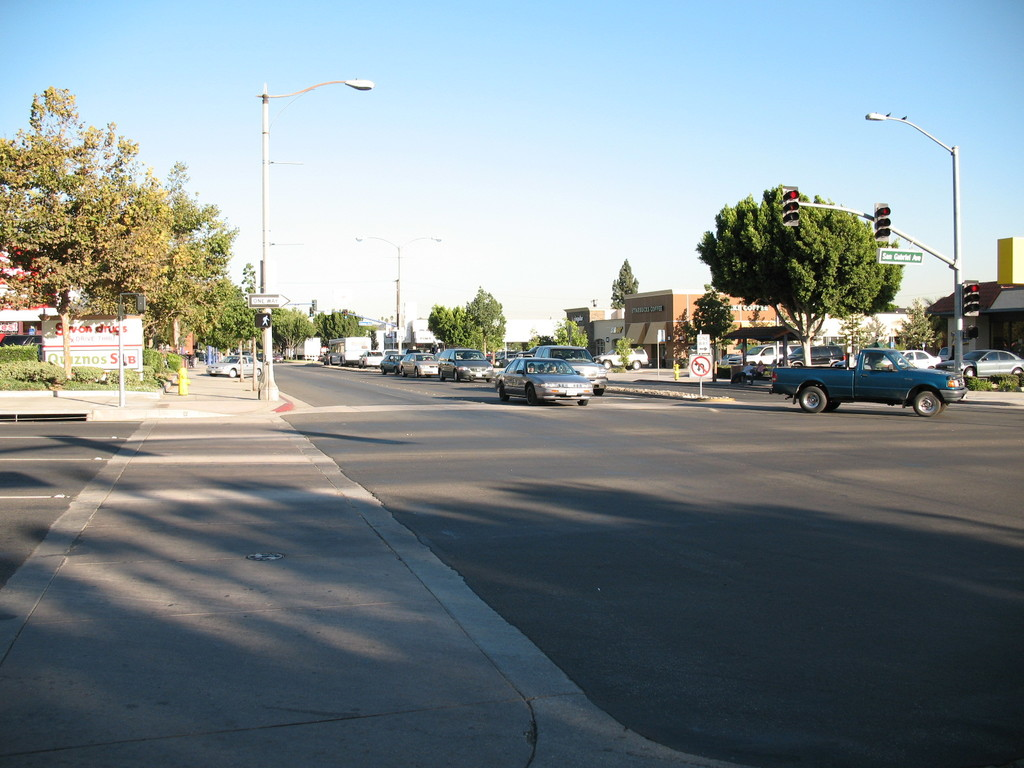Car: (774, 334, 970, 417), (490, 357, 593, 410), (937, 349, 1023, 385), (440, 344, 495, 382), (867, 343, 938, 371), (204, 357, 257, 384), (396, 348, 440, 376), (377, 343, 397, 375), (727, 344, 774, 356)
